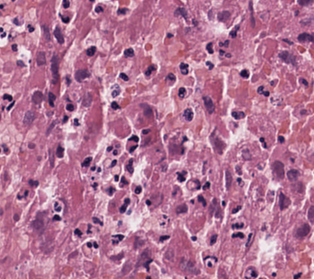nucleus: (210, 129, 225, 154), (179, 258, 199, 274), (51, 54, 58, 83), (203, 96, 214, 113), (272, 161, 283, 178), (137, 250, 149, 265), (75, 69, 89, 81), (23, 111, 35, 125), (32, 218, 43, 233), (141, 103, 152, 117), (54, 27, 63, 43), (225, 169, 232, 189), (245, 267, 257, 278), (32, 91, 42, 104), (36, 51, 45, 65), (82, 93, 91, 106), (122, 261, 131, 274), (42, 24, 49, 40), (246, 233, 253, 248), (145, 65, 155, 75), (176, 204, 187, 213), (48, 92, 55, 106), (184, 108, 192, 120), (232, 111, 244, 119), (47, 121, 55, 133), (86, 46, 95, 56), (230, 26, 238, 37), (179, 63, 187, 74), (165, 248, 173, 259), (56, 145, 63, 157), (82, 157, 91, 166), (242, 149, 250, 159), (177, 171, 185, 181), (126, 159, 132, 172), (112, 85, 119, 96), (178, 87, 185, 98), (124, 48, 133, 56), (166, 73, 175, 81), (232, 205, 241, 213), (198, 195, 205, 205), (210, 234, 217, 244), (144, 259, 151, 269), (112, 234, 123, 240), (240, 69, 248, 77), (7, 101, 14, 110), (93, 217, 102, 224), (206, 43, 212, 53), (260, 137, 266, 147), (28, 180, 38, 186), (159, 235, 169, 241), (120, 73, 128, 80), (120, 204, 127, 212), (232, 223, 243, 228), (232, 232, 243, 237), (219, 40, 228, 46), (3, 94, 12, 100), (129, 135, 138, 141), (54, 202, 60, 211), (206, 61, 213, 68), (257, 86, 264, 93), (111, 102, 118, 109), (108, 187, 114, 195), (17, 60, 24, 66), (66, 104, 73, 110), (278, 135, 284, 142), (129, 145, 136, 151), (50, 152, 53, 166), (203, 182, 209, 189), (135, 186, 141, 193), (74, 229, 81, 235), (110, 160, 116, 166), (122, 177, 127, 184), (53, 215, 60, 220), (263, 91, 269, 96), (124, 198, 129, 204), (142, 129, 149, 133), (29, 143, 34, 148), (87, 242, 92, 247), (12, 44, 16, 50), (63, 116, 67, 122), (14, 214, 18, 220), (237, 166, 240, 173), (1, 32, 5, 37), (167, 33, 172, 37), (74, 119, 78, 124), (114, 175, 118, 180), (191, 236, 196, 240), (93, 242, 97, 247), (107, 146, 111, 150), (113, 150, 117, 154), (91, 166, 95, 170), (146, 200, 150, 204), (237, 178, 240, 182)
